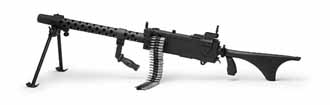rifle: (28, 1, 314, 105)
